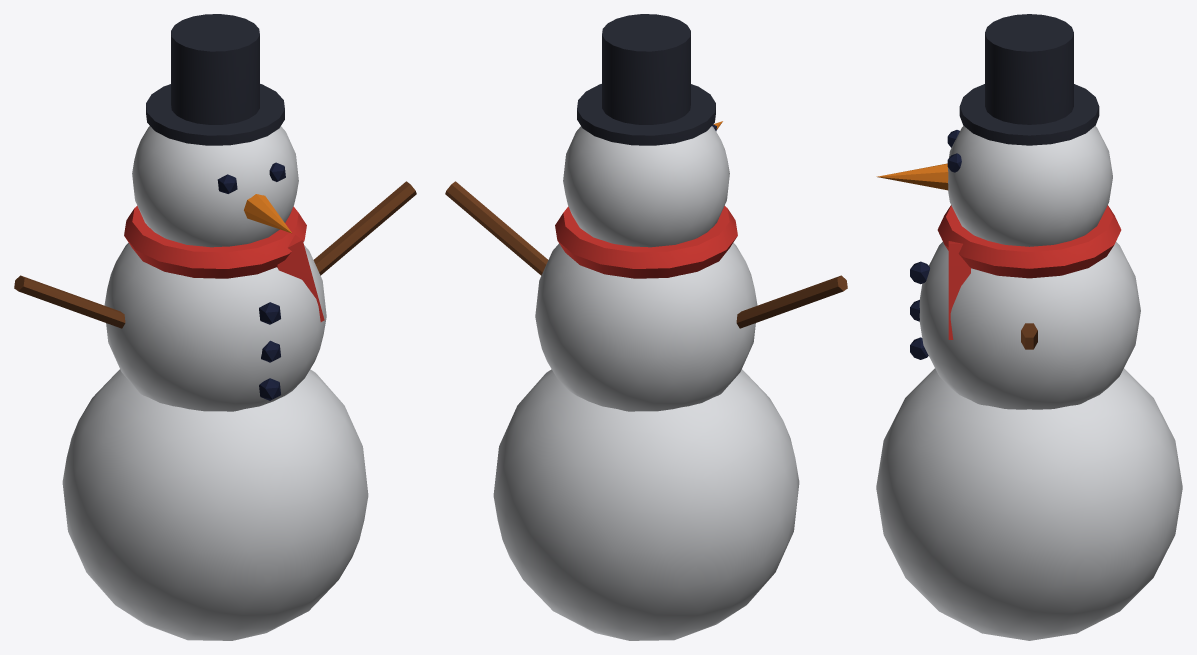
Rendered from lo_snowman.glb.
3 views of the same model, side by side, from view 1: azimuth 30°, elevation 25°; view 2: azimuth 150°, elevation 25°; view 3: azimuth 270°, elevation 25° (orthographic).
Parts seen in each view (by area): view 1: body; view 2: body; view 3: body.
Boxes of the visible parts, box(x1,y1,x2,y2) form: body: box(14, 14, 416, 640); body: box(445, 14, 847, 640); body: box(876, 14, 1182, 640).
Bounding box in the file's own units: 1.65 × 2.35 × 1.1.
